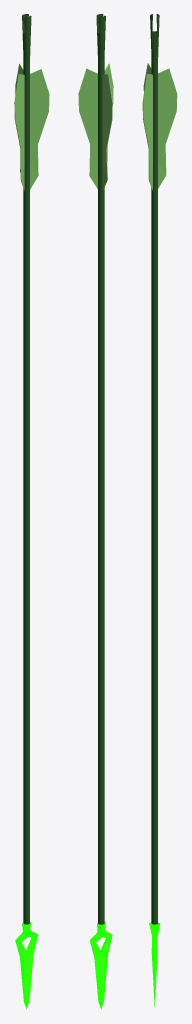
Rendered from yaya.fbx.
The picture shows the model from 3 angles, left to right: view 1: azimuth 30°, elevation 25°; view 2: azimuth 210°, elevation 25°; view 3: azimuth 270°, elevation 25°; orthographic projection.
Visible parts, largest first — view 1: 円柱, 立方体.002, 立方体.003, 立方体.001; view 2: 円柱, 立方体.002, 立方体.003, 立方体, 立方体.001; view 3: 円柱, 立方体, 立方体.002, 立方体.003.
Boxes of the visible parts, <box> form: 円柱: <box>22,14,31,924</box>; 立方体.002: <box>30,69,49,189</box>; 立方体.003: <box>15,922,38,1009</box>; 立方体.001: <box>14,74,24,190</box>; 円柱: <box>96,14,105,928</box>; 立方体.002: <box>78,68,97,189</box>; 立方体.003: <box>89,921,112,1009</box>; 立方体: <box>102,74,112,189</box>; 立方体.001: <box>104,63,113,161</box>; 円柱: <box>150,14,159,927</box>; 立方体: <box>158,68,177,188</box>; 立方体.002: <box>142,74,152,190</box>; 立方体.003: <box>149,922,160,1007</box>.
Bounding box in the file's own units: 70.96 × 1953 × 61.59.
